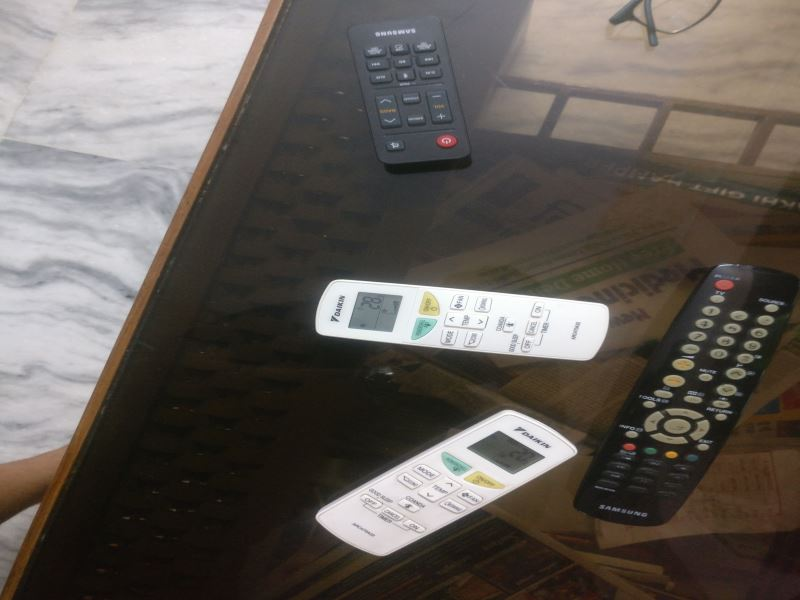ac remote: (312, 407, 577, 558), (314, 277, 608, 362)
tv remote: (575, 251, 800, 526), (347, 16, 473, 173)
